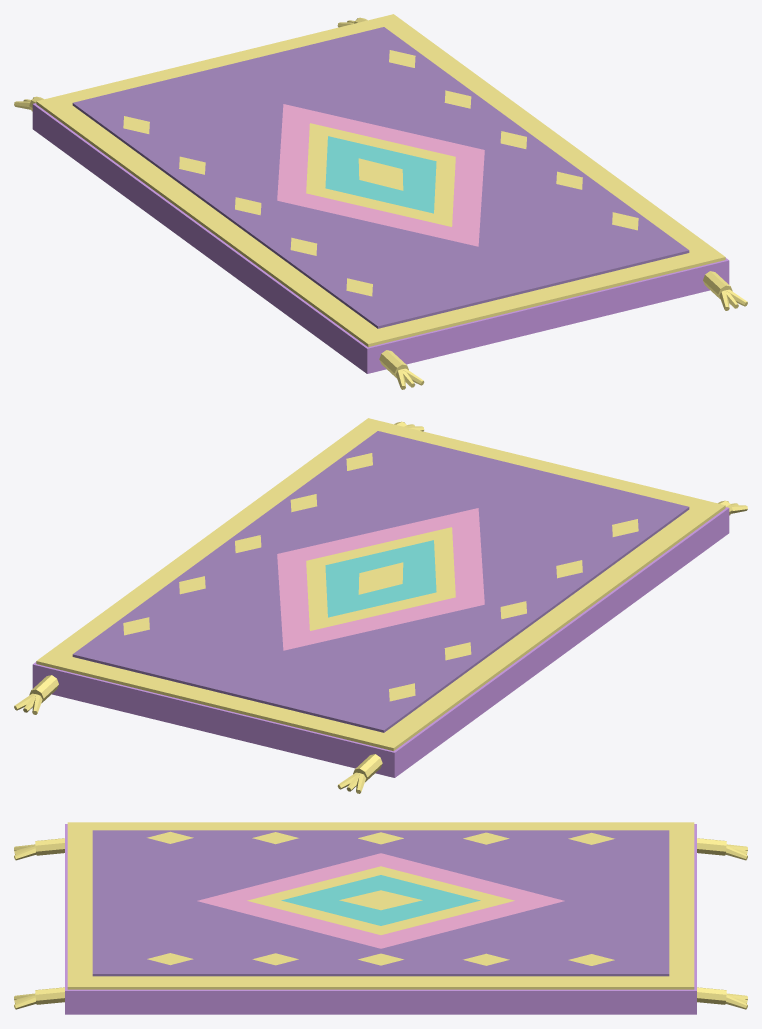
File: carpet.glb
The picture shows the model from 3 angles, top to bottom: view 1: azimuth 30°, elevation 25°; view 2: azimuth 150°, elevation 25°; view 3: azimuth 270°, elevation 25°; orthographic projection. The views are drawn at different scales.
Visible parts, largest first — view 1: rug-field, gold-border, woven-pattern (×4), paint; view 2: rug-field, gold-border, woven-pattern (×4), paint; view 3: rug-field, gold-border, woven-pattern (×4), paint, corner-tassel (×4).
Part boxes in pixels (left/top/right/bottom): rug-field: left=72, top=27, right=689, bottom=328; gold-border: left=36, top=14, right=725, bottom=347; woven-pattern (×4): left=277, top=104, right=484, bottom=246; paint: left=32, top=103, right=729, bottom=373; rug-field: left=72, top=431, right=689, bottom=732; gold-border: left=36, top=418, right=725, bottom=751; woven-pattern (×4): left=277, top=508, right=484, bottom=650; paint: left=32, top=507, right=729, bottom=777; rug-field: left=92, top=830, right=669, bottom=976; gold-border: left=67, top=822, right=694, bottom=989; woven-pattern (×4): left=197, top=853, right=564, bottom=948; paint: left=65, top=824, right=696, bottom=1014; corner-tassel (×4): left=35, top=838, right=726, bottom=1004.
Bounding box in the file's own units: 1.51 × 0.1406 × 2.8.
